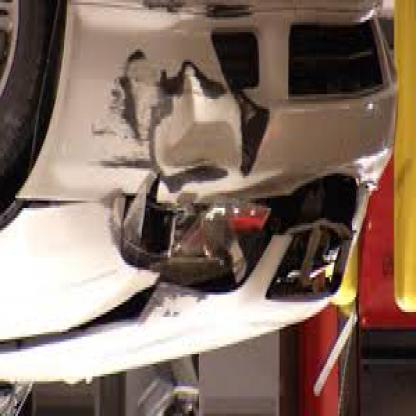dent: (159, 89, 240, 178)
